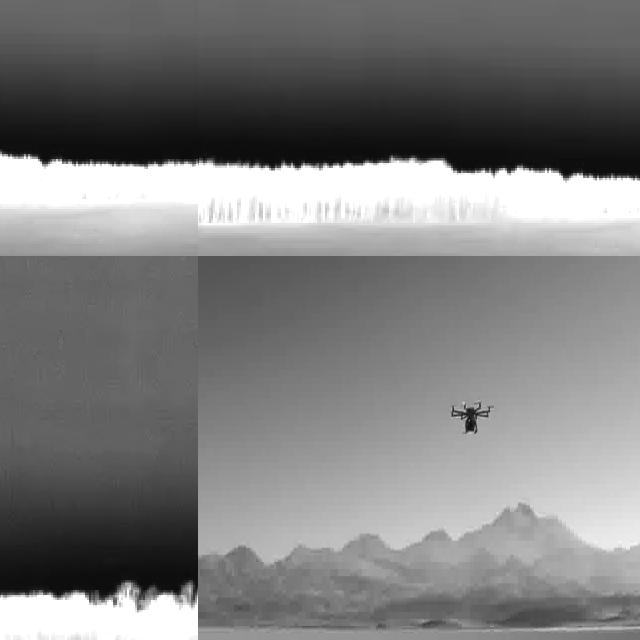drone: (451, 399, 494, 438)
